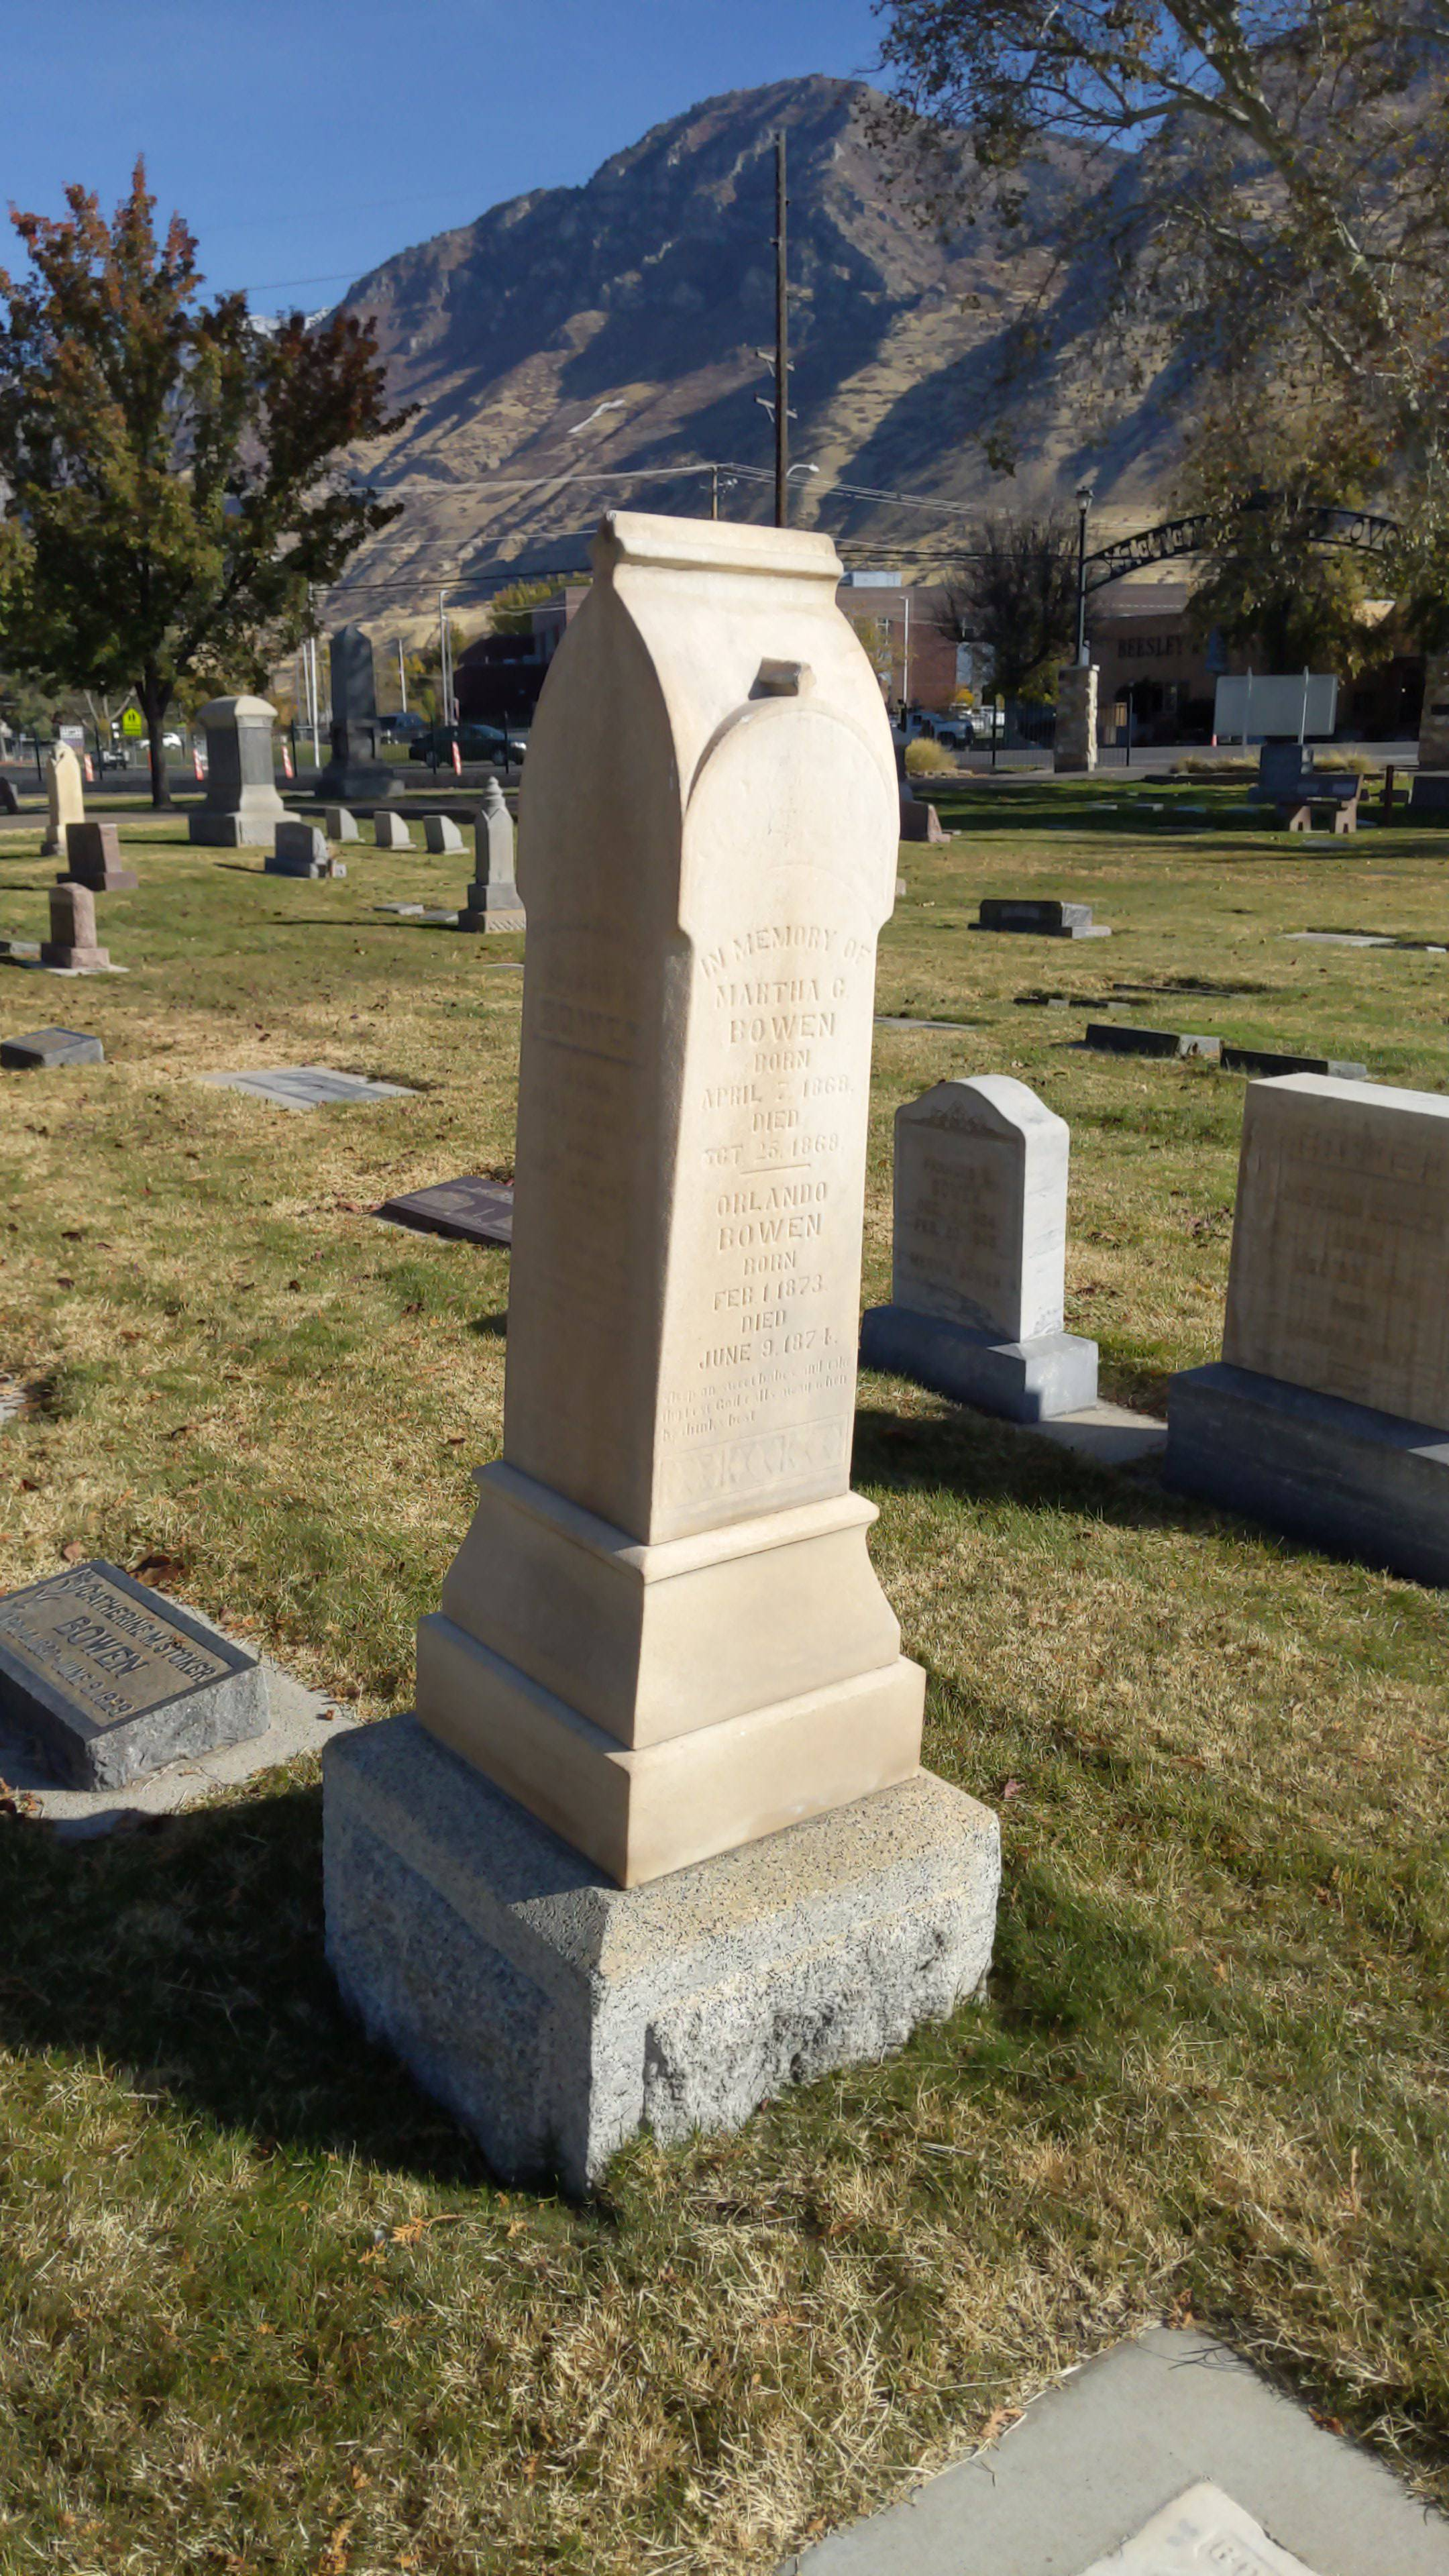obelisk: (423, 522, 924, 1890)
